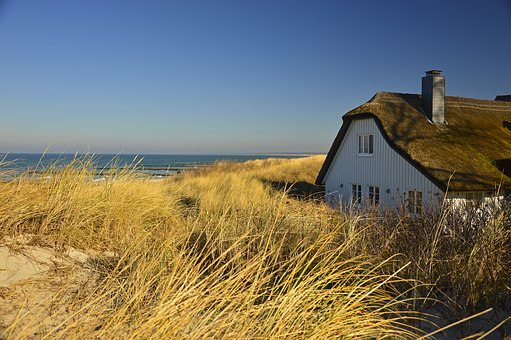field: (2, 156, 510, 337)
house: (323, 65, 511, 242)
sky: (1, 3, 510, 151)
